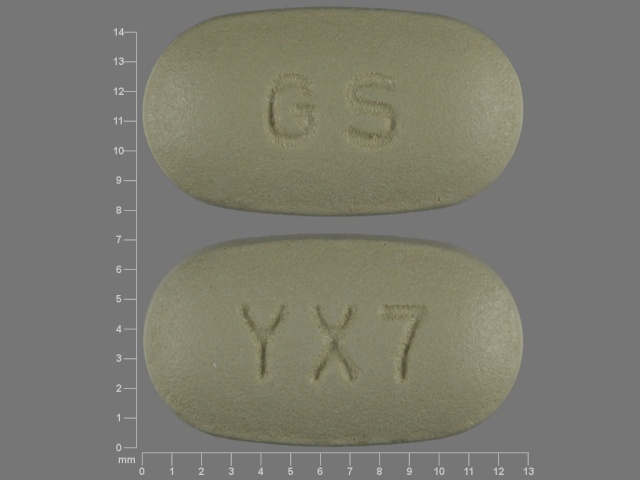7: (375, 301, 433, 385)
G: (259, 69, 322, 145)
S: (345, 70, 402, 148)
X: (305, 301, 357, 386)
Y: (238, 303, 292, 385)
